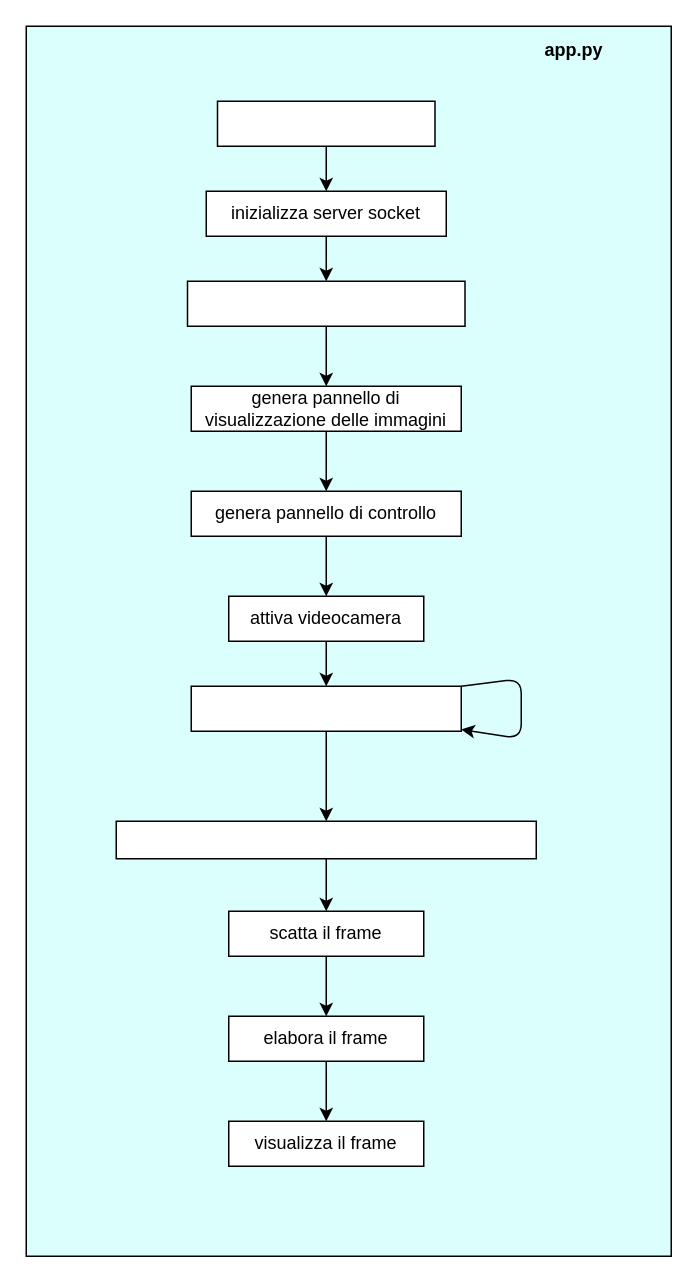
This 698x1283 diagram has some shape labels left out. The centre of each missing label's shape, as x and y in pixels:
"aspetta messaggio dalla PLC" belongs at point (325, 708).
"estrai valori della ricetta" belongs at point (325, 123).
"inizializza oggetto fotocamera" belongs at point (325, 303).
"se il messaggio contiene un particolare carattere" belongs at point (325, 839).
